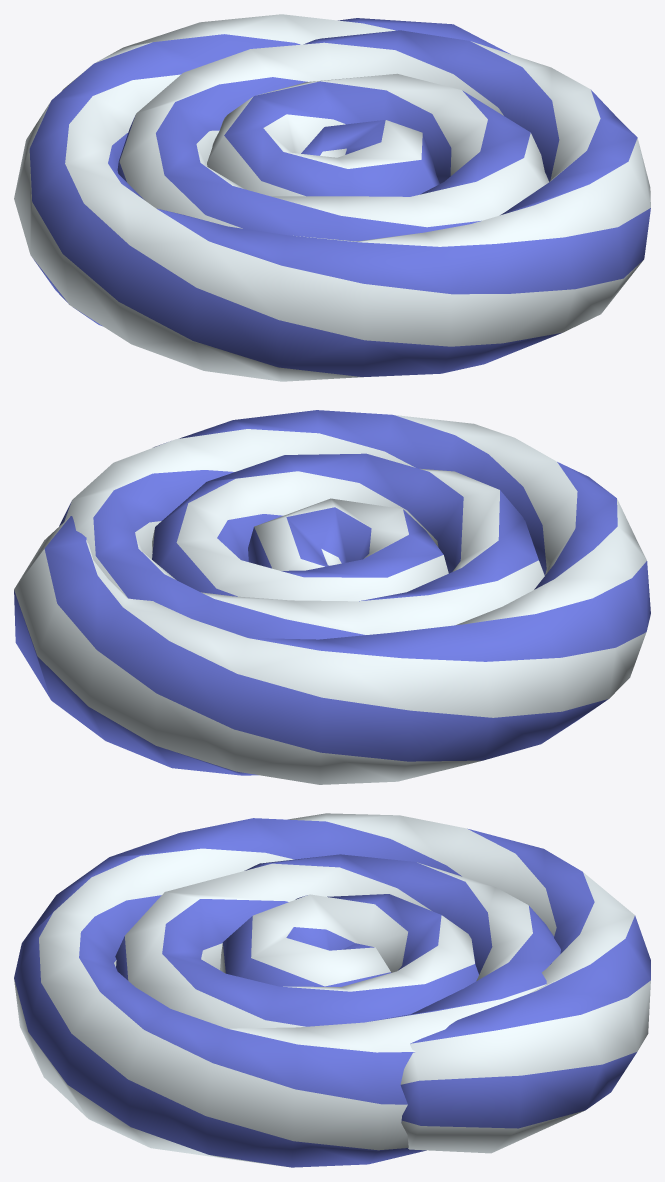
The model's file is candy_assets9.fbx.
3 renders of one model, top to bottom at view 1: azimuth 30°, elevation 25°; view 2: azimuth 150°, elevation 25°; view 3: azimuth 270°, elevation 25°, orthographic. The views are drawn at different scales.
Parts seen in each view (by area): view 1: candy_assets9; view 2: candy_assets9; view 3: candy_assets9.
Boxes of the visible parts, x1=… form: candy_assets9: x1=14, y1=14, x2=650, y2=381; candy_assets9: x1=14, y1=410, x2=650, y2=784; candy_assets9: x1=14, y1=813, x2=650, y2=1167.
Size of the model in its own units: 508 by 128 by 529.
1 material, 1 textured.
